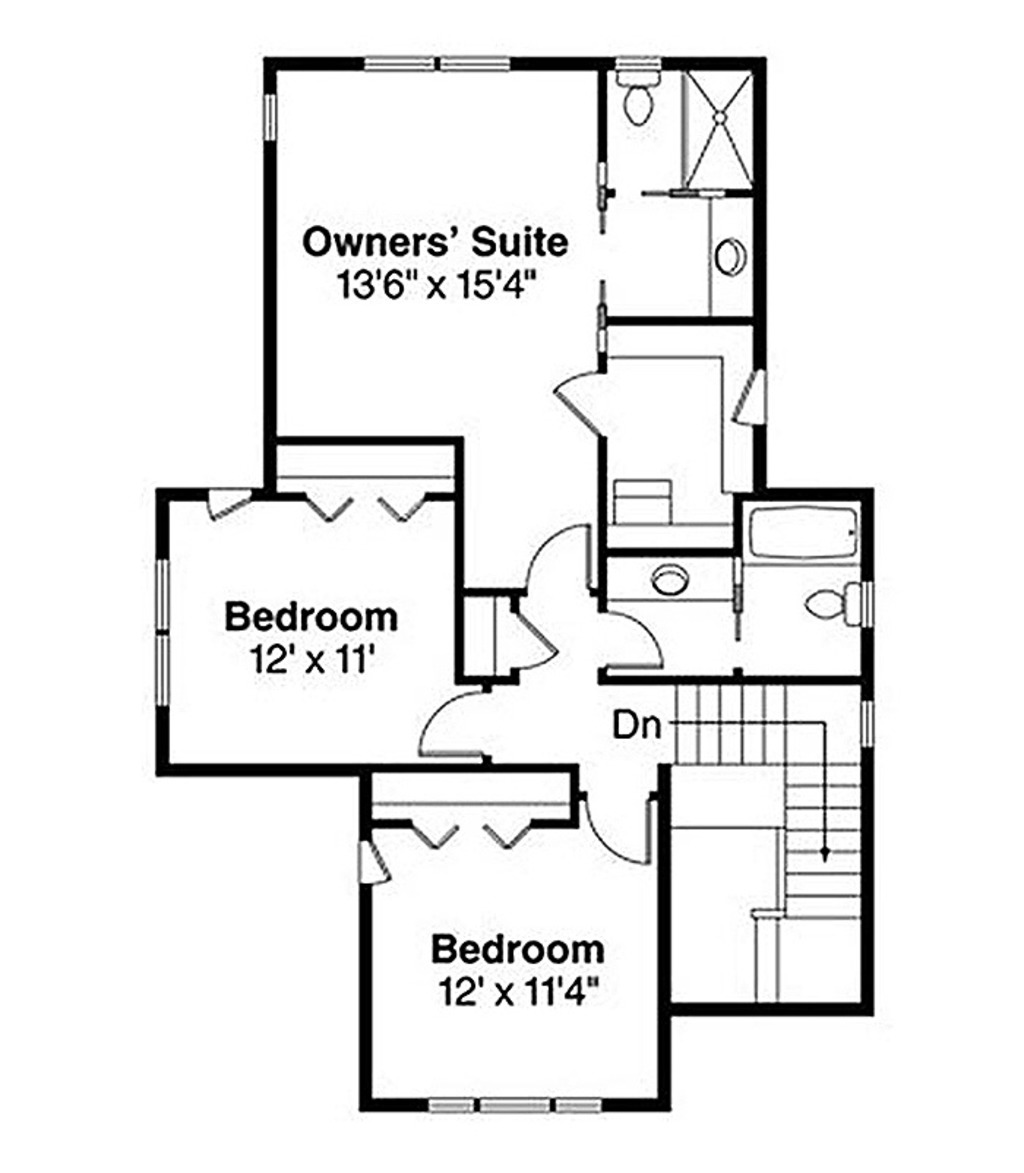door: (512, 506, 608, 602), (414, 686, 496, 763), (542, 368, 623, 441), (580, 797, 651, 866), (592, 609, 662, 672), (514, 615, 569, 670)
large_sink: (792, 570, 880, 632), (612, 43, 671, 127)
small_sink: (698, 179, 757, 338), (610, 550, 737, 611)
stairs: (671, 682, 862, 968)
tub: (739, 490, 869, 565)
window: (421, 1075, 608, 1133), (367, 52, 505, 82), (150, 566, 175, 709), (251, 81, 292, 150)
